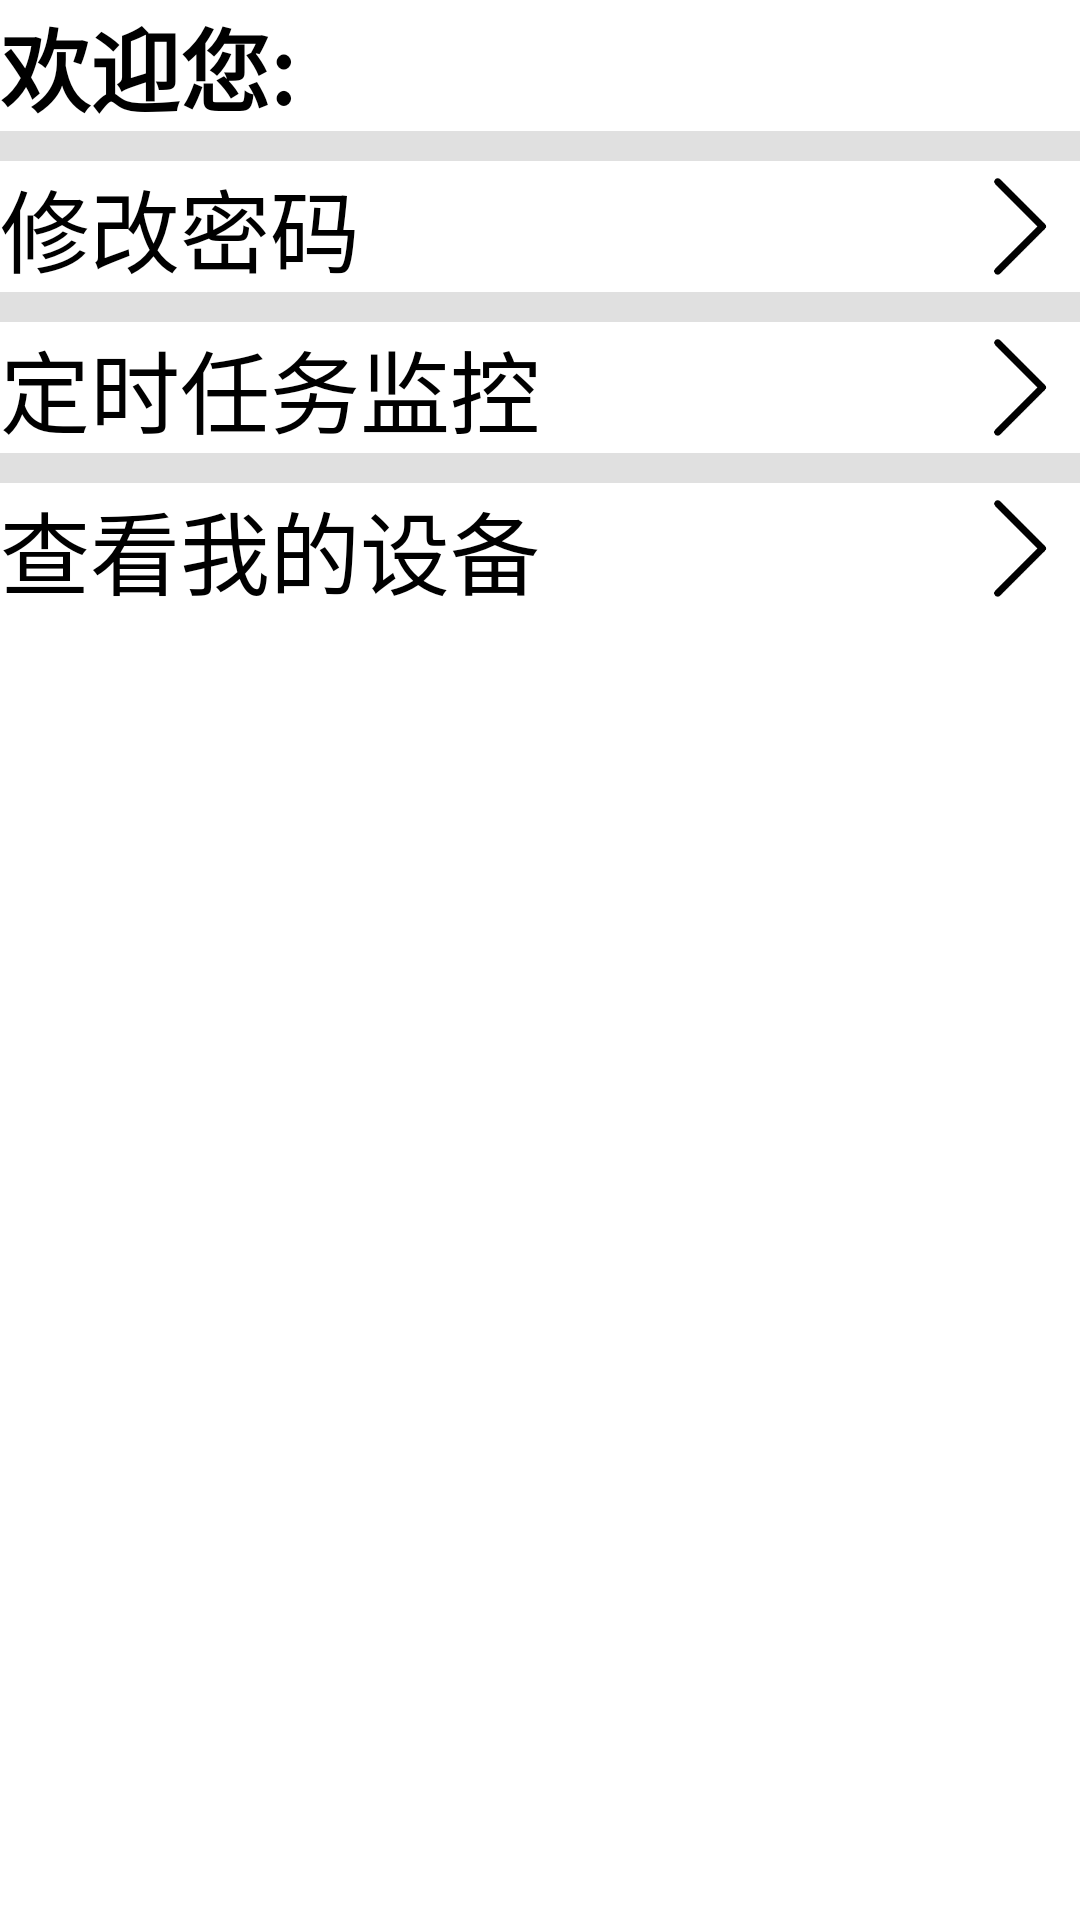

Icon bounding boxes for this 1080 × 1920 phone screenshot, format region(x1, y1, x2, y2):
next step: region(994, 178, 1047, 275), region(994, 339, 1047, 436), region(994, 500, 1047, 597)
